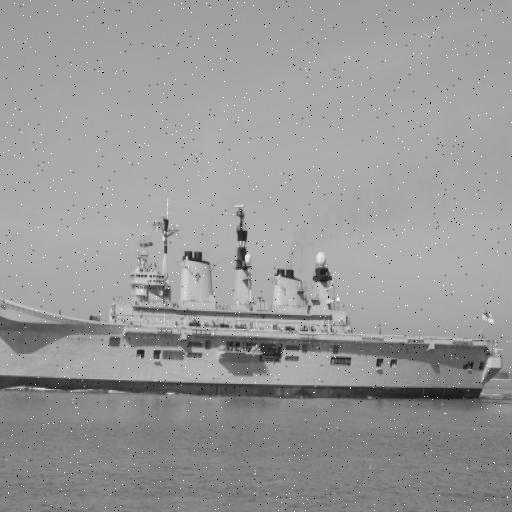Portanaves: (1, 198, 508, 403)
